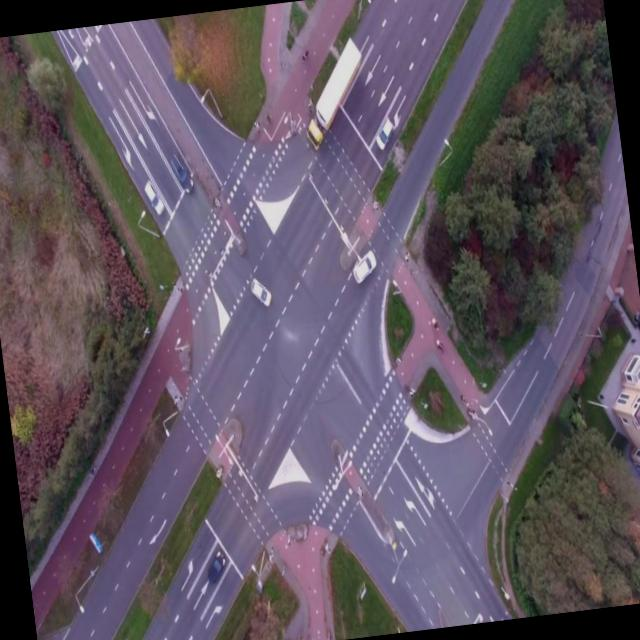car: (348, 243, 382, 285), (136, 176, 168, 220), (165, 152, 196, 195), (369, 113, 400, 152), (244, 274, 275, 309), (203, 548, 229, 582)
truck: (288, 0, 376, 157)
